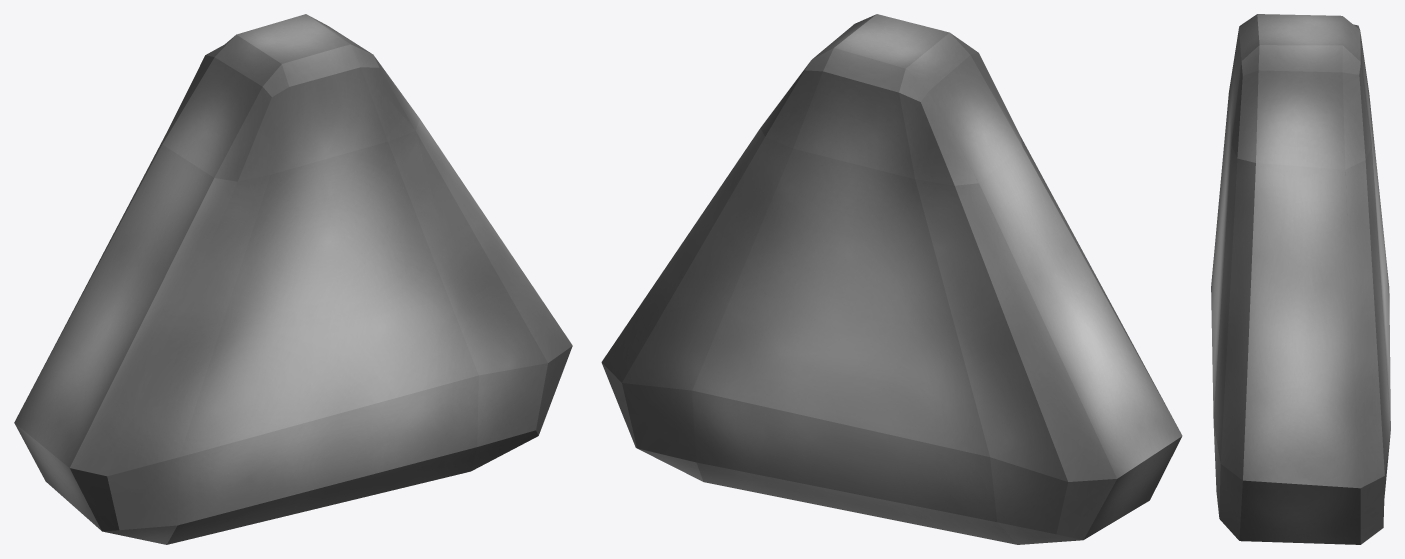
File: triangle.fbx
The picture shows the model from 3 angles, left to right: view 1: azimuth 30°, elevation 25°; view 2: azimuth 150°, elevation 25°; view 3: azimuth 270°, elevation 25°; orthographic projection. The views are drawn at different scales.
Visible parts, largest first — view 1: triangle; view 2: triangle; view 3: triangle.
Boxes of the visible parts, box(x1,y1,x2,y2) form: triangle: box(14, 14, 572, 544); triangle: box(601, 14, 1182, 544); triangle: box(1211, 14, 1390, 544).
Bounding box in the file's own units: 73.91 × 62.5 × 23.6.
